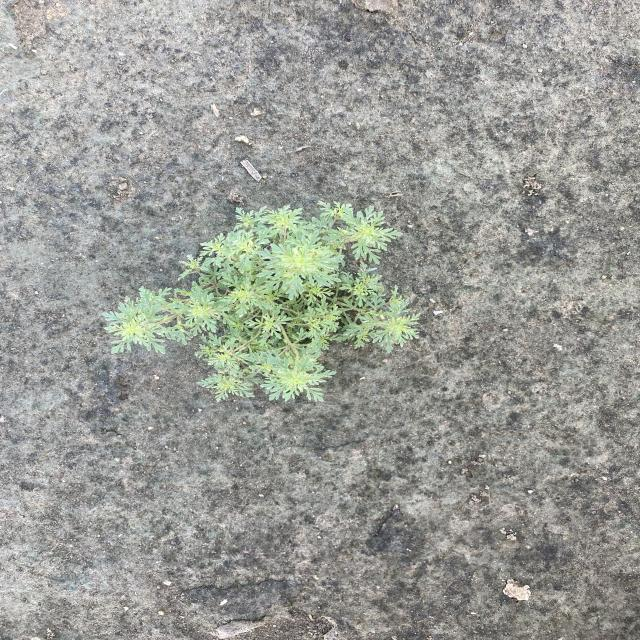Ragweed: (101, 199, 425, 404)
